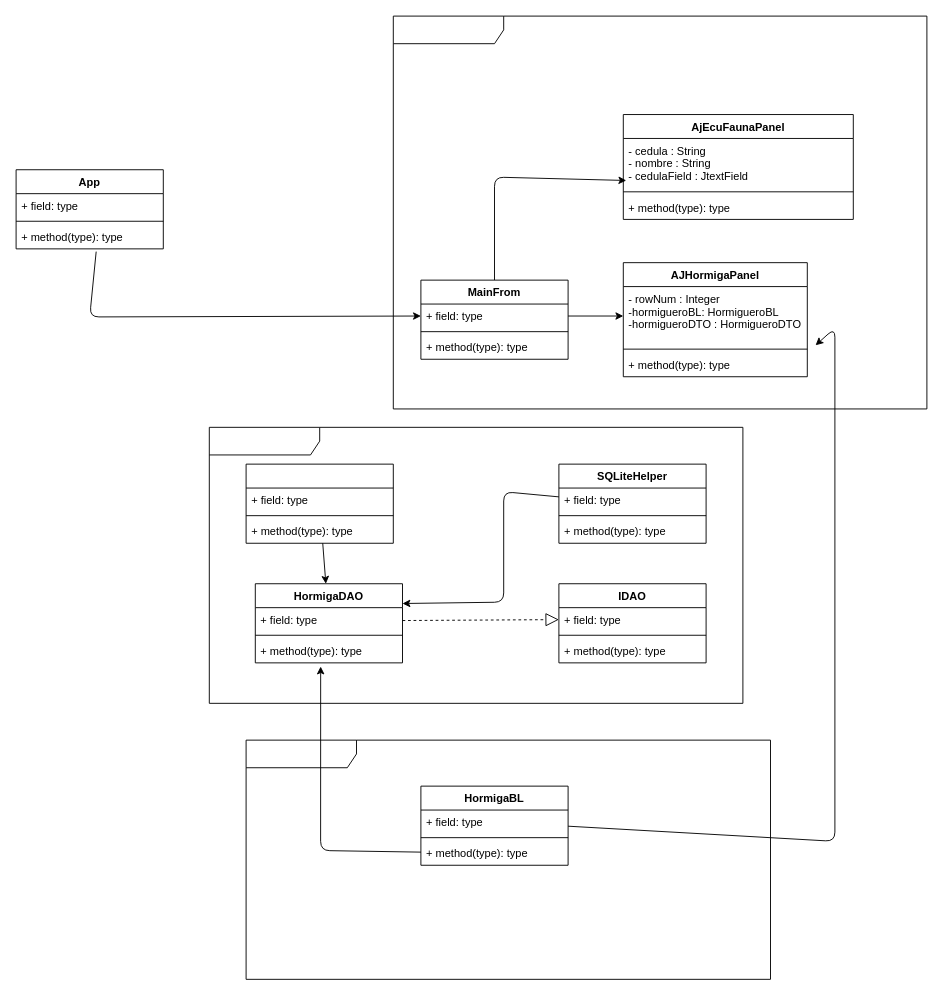
Image size: 943x995. Some labels were removed from this diagram. The box of each missing label's shape, as (x1, y1, x2, y2) in pixels:
BusinessLogic: (245, 739, 770, 979)
DataAccess: (208, 426, 743, 703)
HormigaDTO: (245, 463, 393, 543)
UserInterface: (392, 15, 927, 409)
